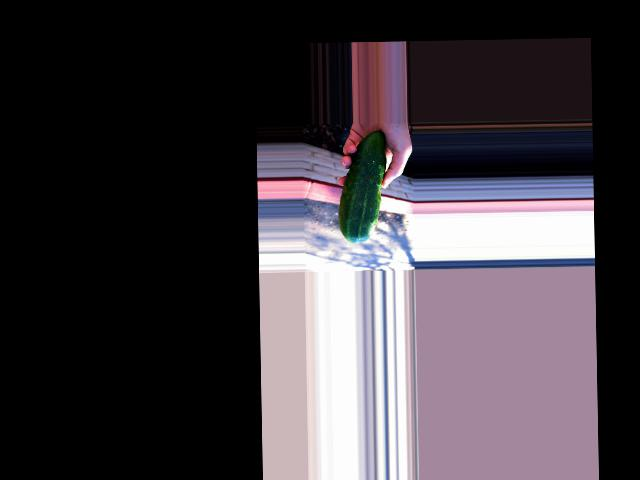cucumber: (336, 130, 387, 243)
